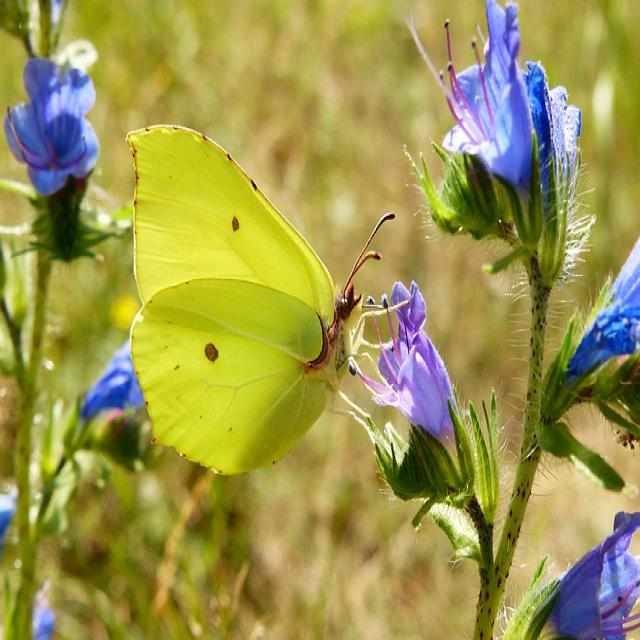butterfly: (126, 125, 410, 477)
